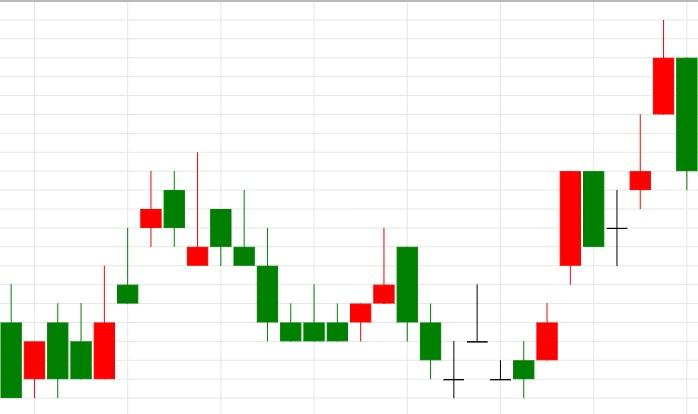bearish_engulfing_fall: (0, 171, 186, 398)
inverse_hammer_rise: (209, 189, 326, 342), (139, 151, 210, 266)
shooting_star_fall: (279, 227, 396, 342)
